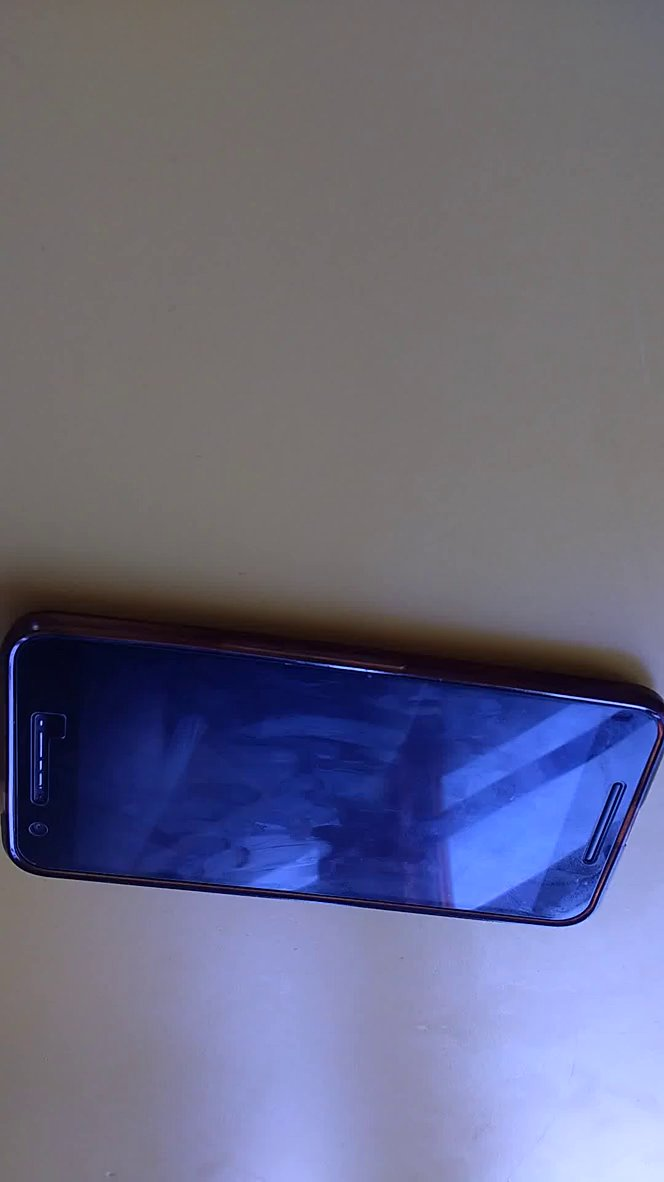phone: (1, 594, 664, 942)
